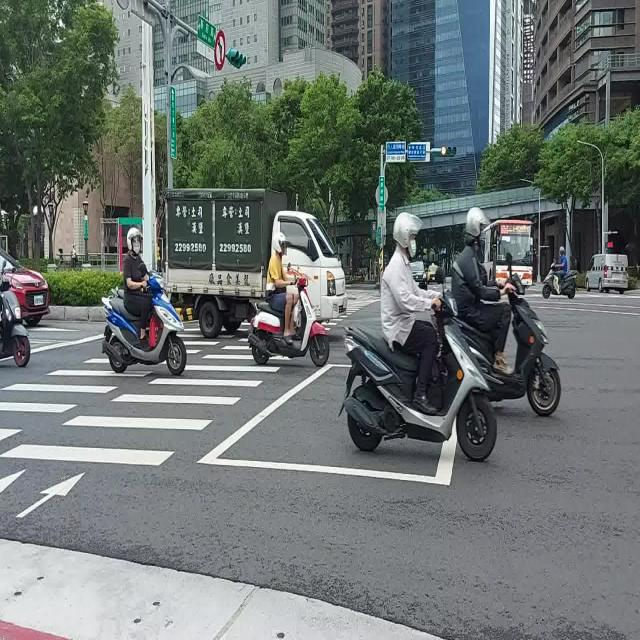bus: (480, 220, 534, 287)
car: (0, 249, 50, 324), (586, 253, 629, 293)
crosswalk: (0, 331, 283, 467), (0, 356, 154, 443), (177, 321, 237, 354), (322, 298, 379, 330)
motocycle: (341, 293, 496, 460), (459, 273, 561, 416), (102, 276, 186, 376), (249, 273, 330, 367), (0, 278, 30, 367), (559, 271, 576, 298), (542, 269, 555, 298)
trunk: (165, 189, 348, 338)
